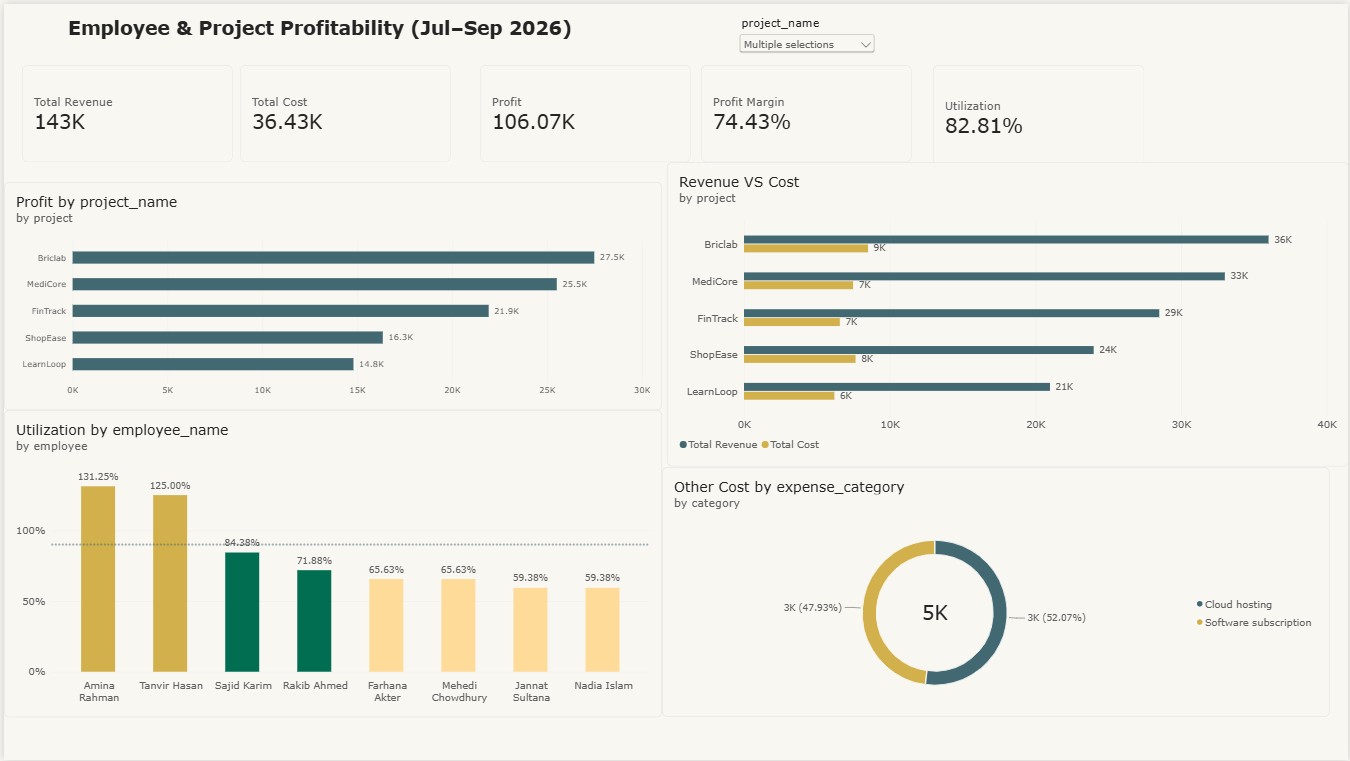

Layout of this report page (visuals, bound fields, positions):
{"tool":"powerbi","page":{"name":"overview","canvas":[1920,1080],"ordinal":0},"visuals":[{"type":"textbox","box":[91.8,17.3,849.9,33.3],"z":0},{"type":"cardVisual","fields":{"Data":["_Measures.Total Revenue"]},"box":[25.3,86.5,301.9,139.7],"z":1000},{"type":"cardVisual","fields":{"Data":["_Measures.Total Cost"]},"box":[337.8,86.5,301.9,139.7],"z":2000},{"type":"cardVisual","fields":{"Data":["_Measures.Profit"]},"box":[679.7,86.5,301.9,139.7],"z":3000},{"type":"cardVisual","fields":{"Data":["_Measures.Profit Margin"]},"box":[996.2,86.5,301.9,139.7],"z":4000},{"type":"cardVisual","fields":{"Data":["_Measures.Utilization"]},"box":[1327.4,86.5,302,150],"z":5000},{"type":"clusteredBarChart","fields":{"Category":["projects.project_name"],"Y":["_Measures.Profit"]},"box":[0,254,940.3,325.9],"z":6000},{"type":"clusteredBarChart","title":"Revenue VS Cost ","fields":{"Category":["projects.project_name"],"Y":["_Measures.Total Revenue","_Measures.Total Cost"]},"box":[947,226.1,973.6,434.9],"z":6001},{"type":"clusteredColumnChart","fields":{"Category":["employees.employee_name"],"Y":["_Measures.Utilization"]},"box":[0,579.9,940.3,438.9],"z":6002},{"type":"donutChart","fields":{"Category":["expenses.expense_category"],"Y":["_Measures.Other Cost"]},"box":[940.3,661,954.2,357.4],"z":6003},{"type":"slicer","fields":{"Values":["projects.project_name"]},"box":[1045.4,17.3,203.5,66.5],"z":6004}]}

Visuals, with their boxes in screenshot pixels (x1, y1, x2, y2), scaled from the page's 1920x1080 canvas onto the 1350x761 screenshot:
textbox: bbox=[65, 12, 662, 36]
cardVisual - _Measures.Total Revenue: bbox=[18, 61, 230, 159]
cardVisual - _Measures.Total Cost: bbox=[238, 61, 450, 159]
cardVisual - _Measures.Profit: bbox=[478, 61, 690, 159]
cardVisual - _Measures.Profit Margin: bbox=[700, 61, 913, 159]
cardVisual - _Measures.Utilization: bbox=[933, 61, 1146, 167]
clusteredBarChart - projects.project_name x _Measures.Profit: bbox=[0, 179, 661, 409]
"Revenue VS Cost " clusteredBarChart: bbox=[666, 159, 1349, 466]
clusteredColumnChart - employees.employee_name x _Measures.Utilization: bbox=[0, 409, 661, 718]
donutChart - expenses.expense_category x _Measures.Other Cost: bbox=[661, 466, 1332, 718]
slicer - projects.project_name: bbox=[735, 12, 878, 59]
